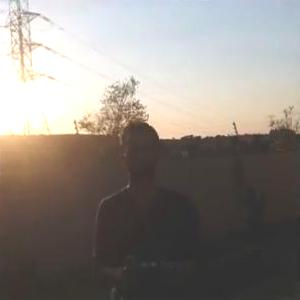follow: (92, 116, 214, 299)
